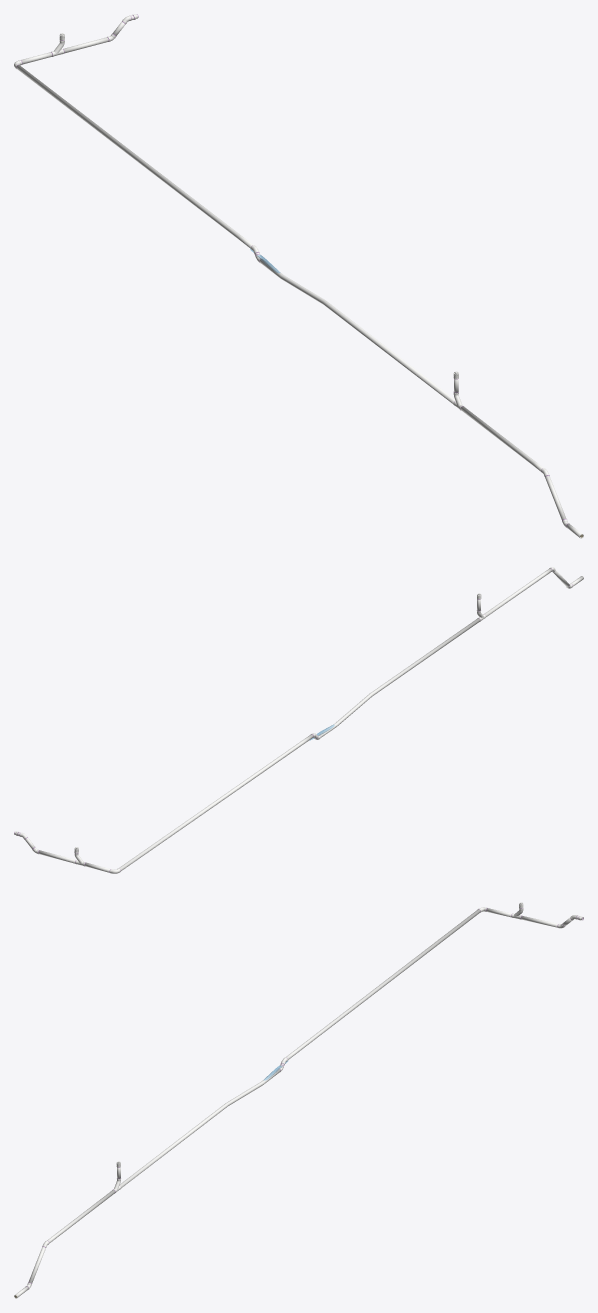
Rendered from pipes_dwv__sewer-city_gravity_and_fault-belly.glb.
The picture shows the model from 3 angles, top to bottom: view 1: azimuth 30°, elevation 25°; view 2: azimuth 150°, elevation 25°; view 3: azimuth 330°, elevation 25°; orthographic projection. The views are drawn at different scales.
Visible parts, largest first — view 1: pipe_dwv_sewer_city_belly; view 2: pipe_dwv_sewer_city_belly; view 3: pipe_dwv_sewer_city_belly.
Boxes of the visible parts, <box> form: pipe_dwv_sewer_city_belly: <box>14,15,583,538</box>; pipe_dwv_sewer_city_belly: <box>17,567,583,873</box>; pipe_dwv_sewer_city_belly: <box>14,907,578,1298</box>.
Bounding box in the file's own units: 3.41 × 2.06 × 26.79.
